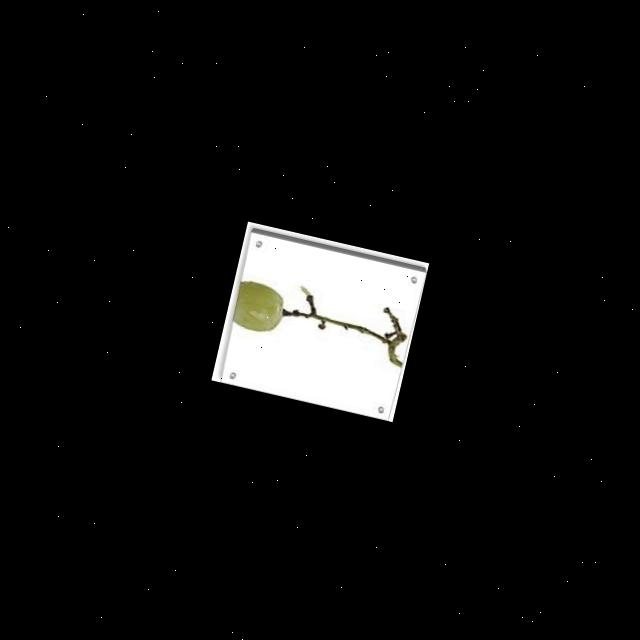grape: (230, 278, 290, 336)
